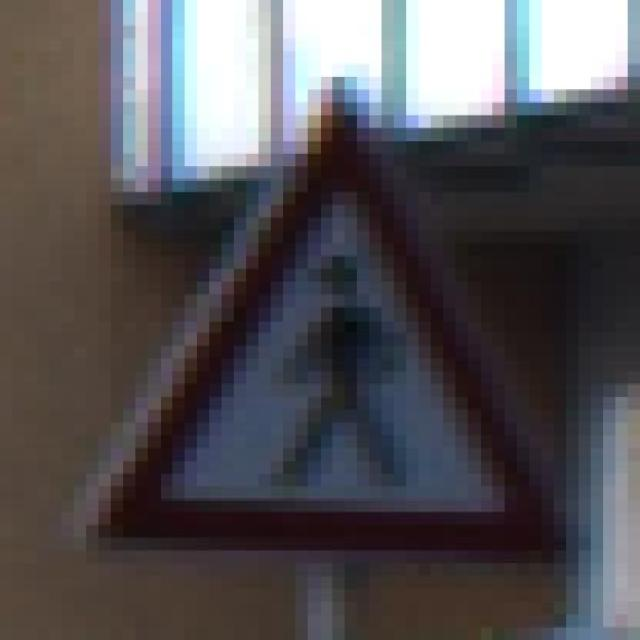Pedestrian Crossing: (49, 51, 578, 563)
